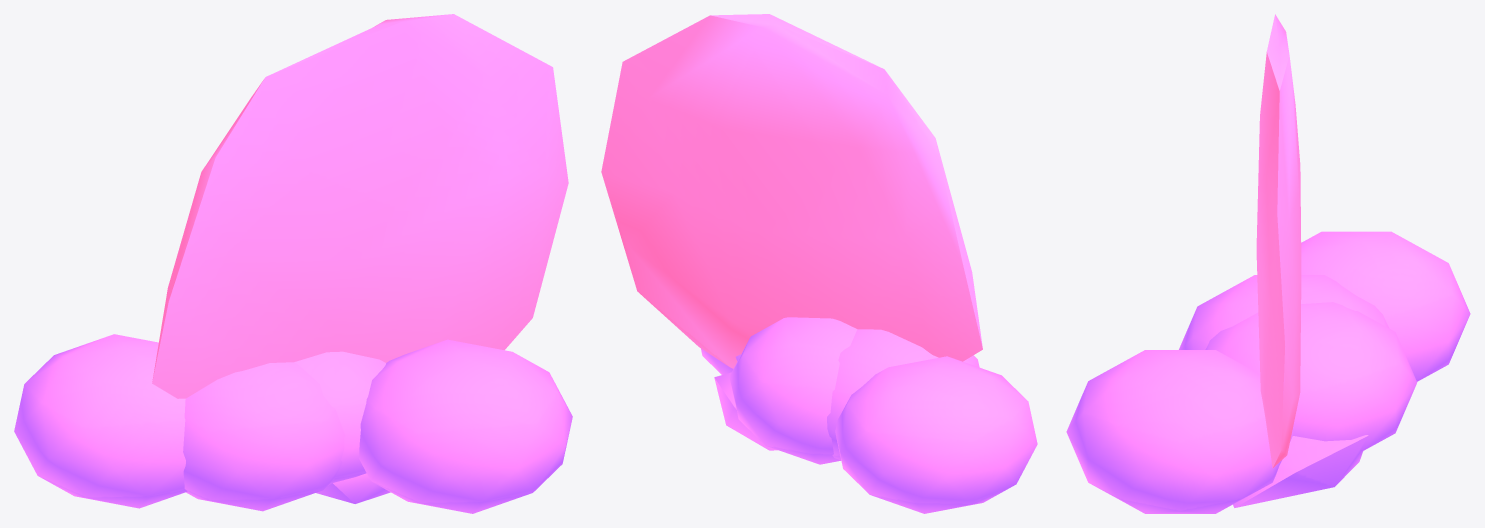
File: mu_coral_fan.glb
3 renders of one model, left to right at view 1: azimuth 30°, elevation 25°; view 2: azimuth 150°, elevation 25°; view 3: azimuth 270°, elevation 25°, orthographic. The views are drawn at different scales.
Visible parts, largest first — view 1: mu_coral_fan; view 2: mu_coral_fan; view 3: mu_coral_fan.
Boxes of the visible parts, left/top/right/bottom form: mu_coral_fan: left=14, top=14, right=572, bottom=513; mu_coral_fan: left=601, top=14, right=1037, bottom=513; mu_coral_fan: left=1066, top=14, right=1470, bottom=513.
Size of the model in its own units: 3.01 by 2.68 by 2.13.
2 materials, 2 textured.
